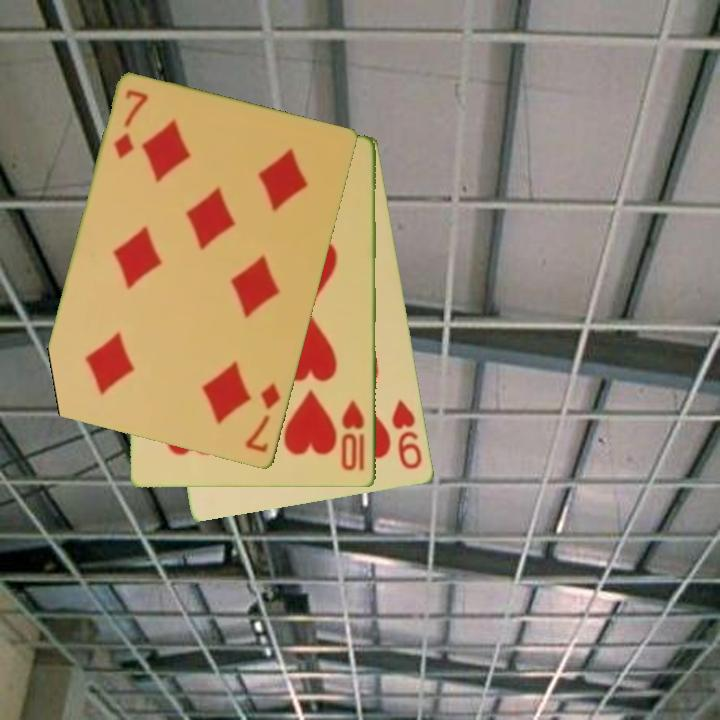10h: (339, 397, 368, 474)
7d: (242, 379, 284, 456), (111, 86, 151, 162)
9h: (388, 396, 426, 473)
